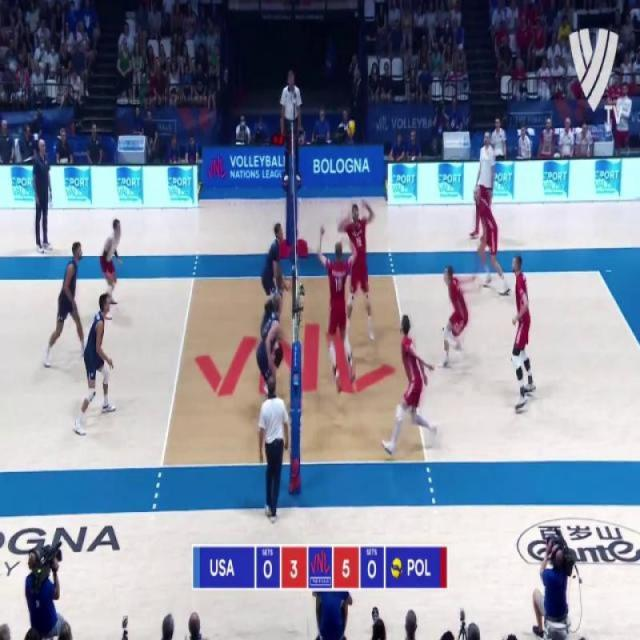volleyball: (348, 116, 356, 136)
